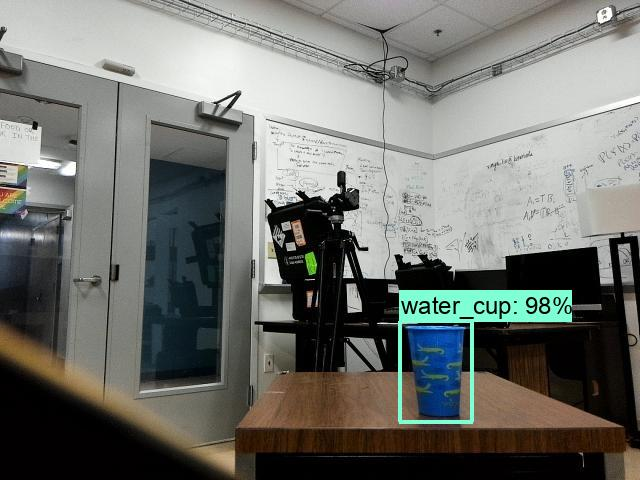water_cup: (399, 321, 467, 424)
